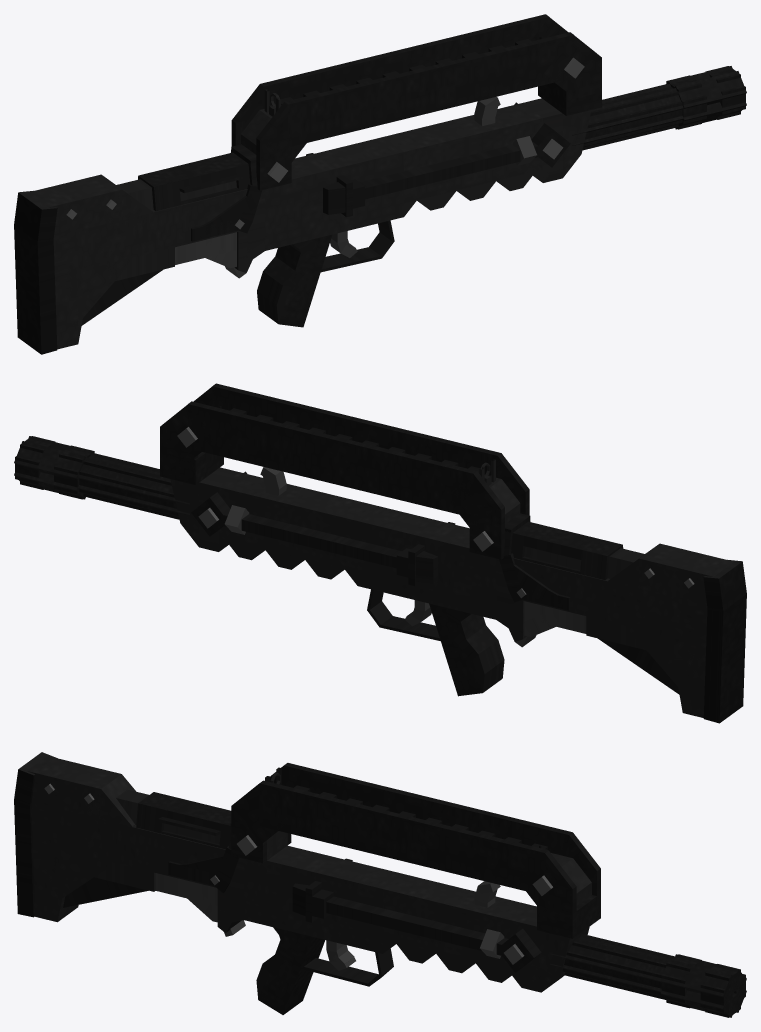
The model's file is famas.obj.
3 renders of one model, top to bottom at view 1: azimuth 30°, elevation 25°; view 2: azimuth 150°, elevation 25°; view 3: azimuth 330°, elevation 25°, orthographic.
Parts seen in each view (by area): view 1: gun; view 2: gun; view 3: gun.
Boxes of the visible parts, x1,y1,x2,y2 form: gun: (14,14,746,354); gun: (14,383,746,723); gun: (14,752,746,1017).
Bounding box in the file's own units: 19.02 × 5.91 × 2.02.
1 material, 1 textured.
